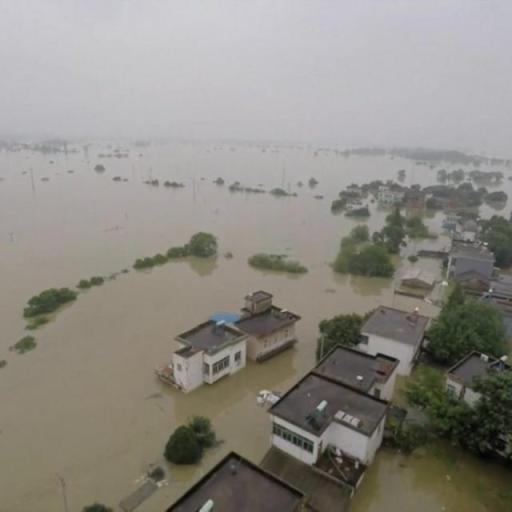flood: (0, 0, 512, 353), (0, 144, 464, 512), (0, 143, 447, 512), (0, 257, 311, 512), (258, 250, 450, 380), (350, 434, 512, 512), (391, 208, 453, 281), (479, 166, 512, 218)
house: (261, 350, 397, 489), (148, 451, 306, 512), (171, 314, 245, 392), (356, 305, 430, 381), (236, 289, 300, 357), (446, 346, 498, 393)
